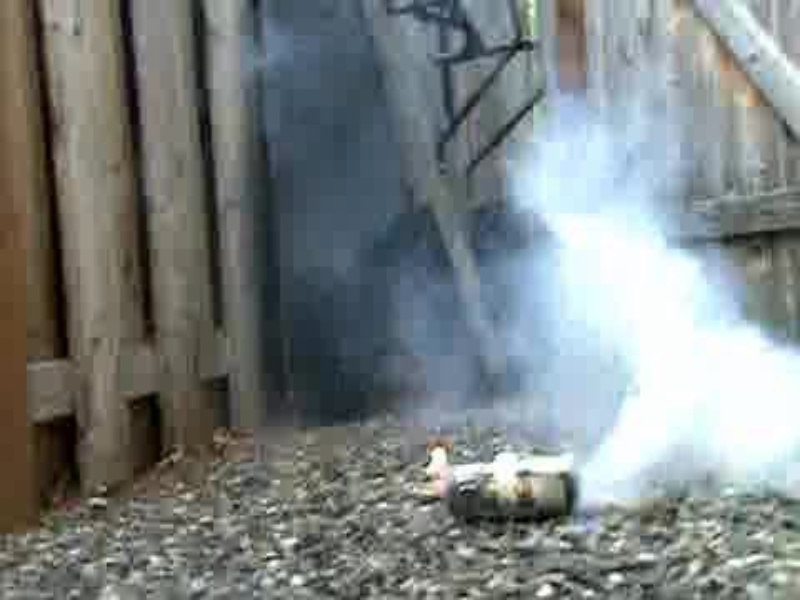smoke: (506, 110, 780, 464)
